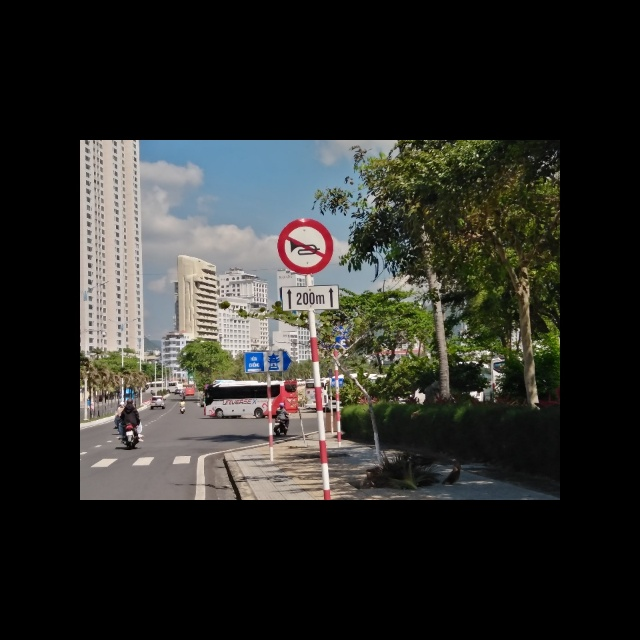Cấm bấm còi: (277, 218, 334, 274)
